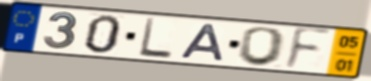0: (83, 14, 125, 55)
3: (41, 11, 79, 52)
A: (178, 22, 226, 63)
F: (281, 26, 332, 72)
L: (137, 16, 175, 60)
O: (235, 26, 289, 68)
